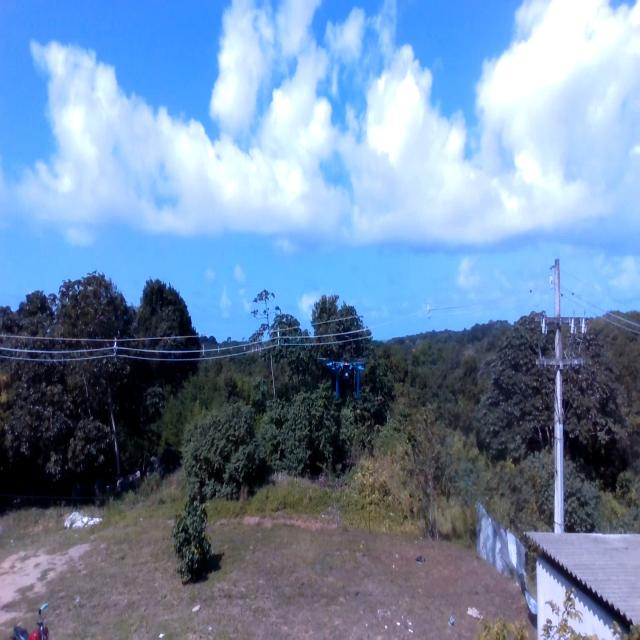-uav-: (316, 346, 372, 414)
